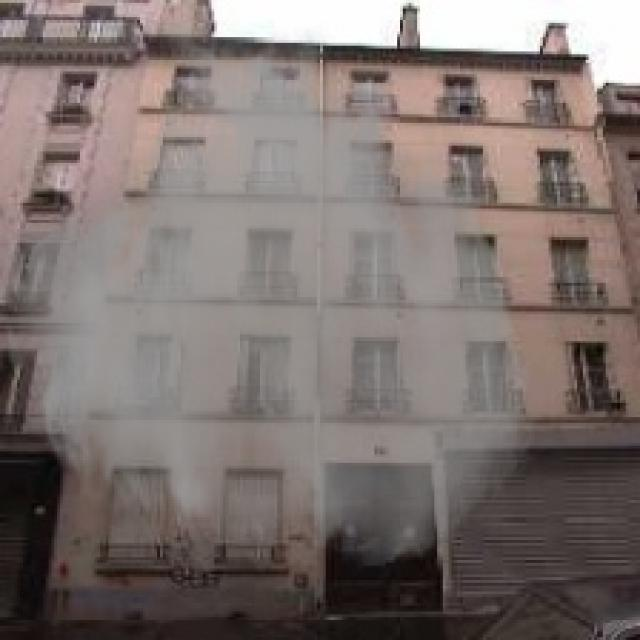smoke: (0, 14, 540, 572)
